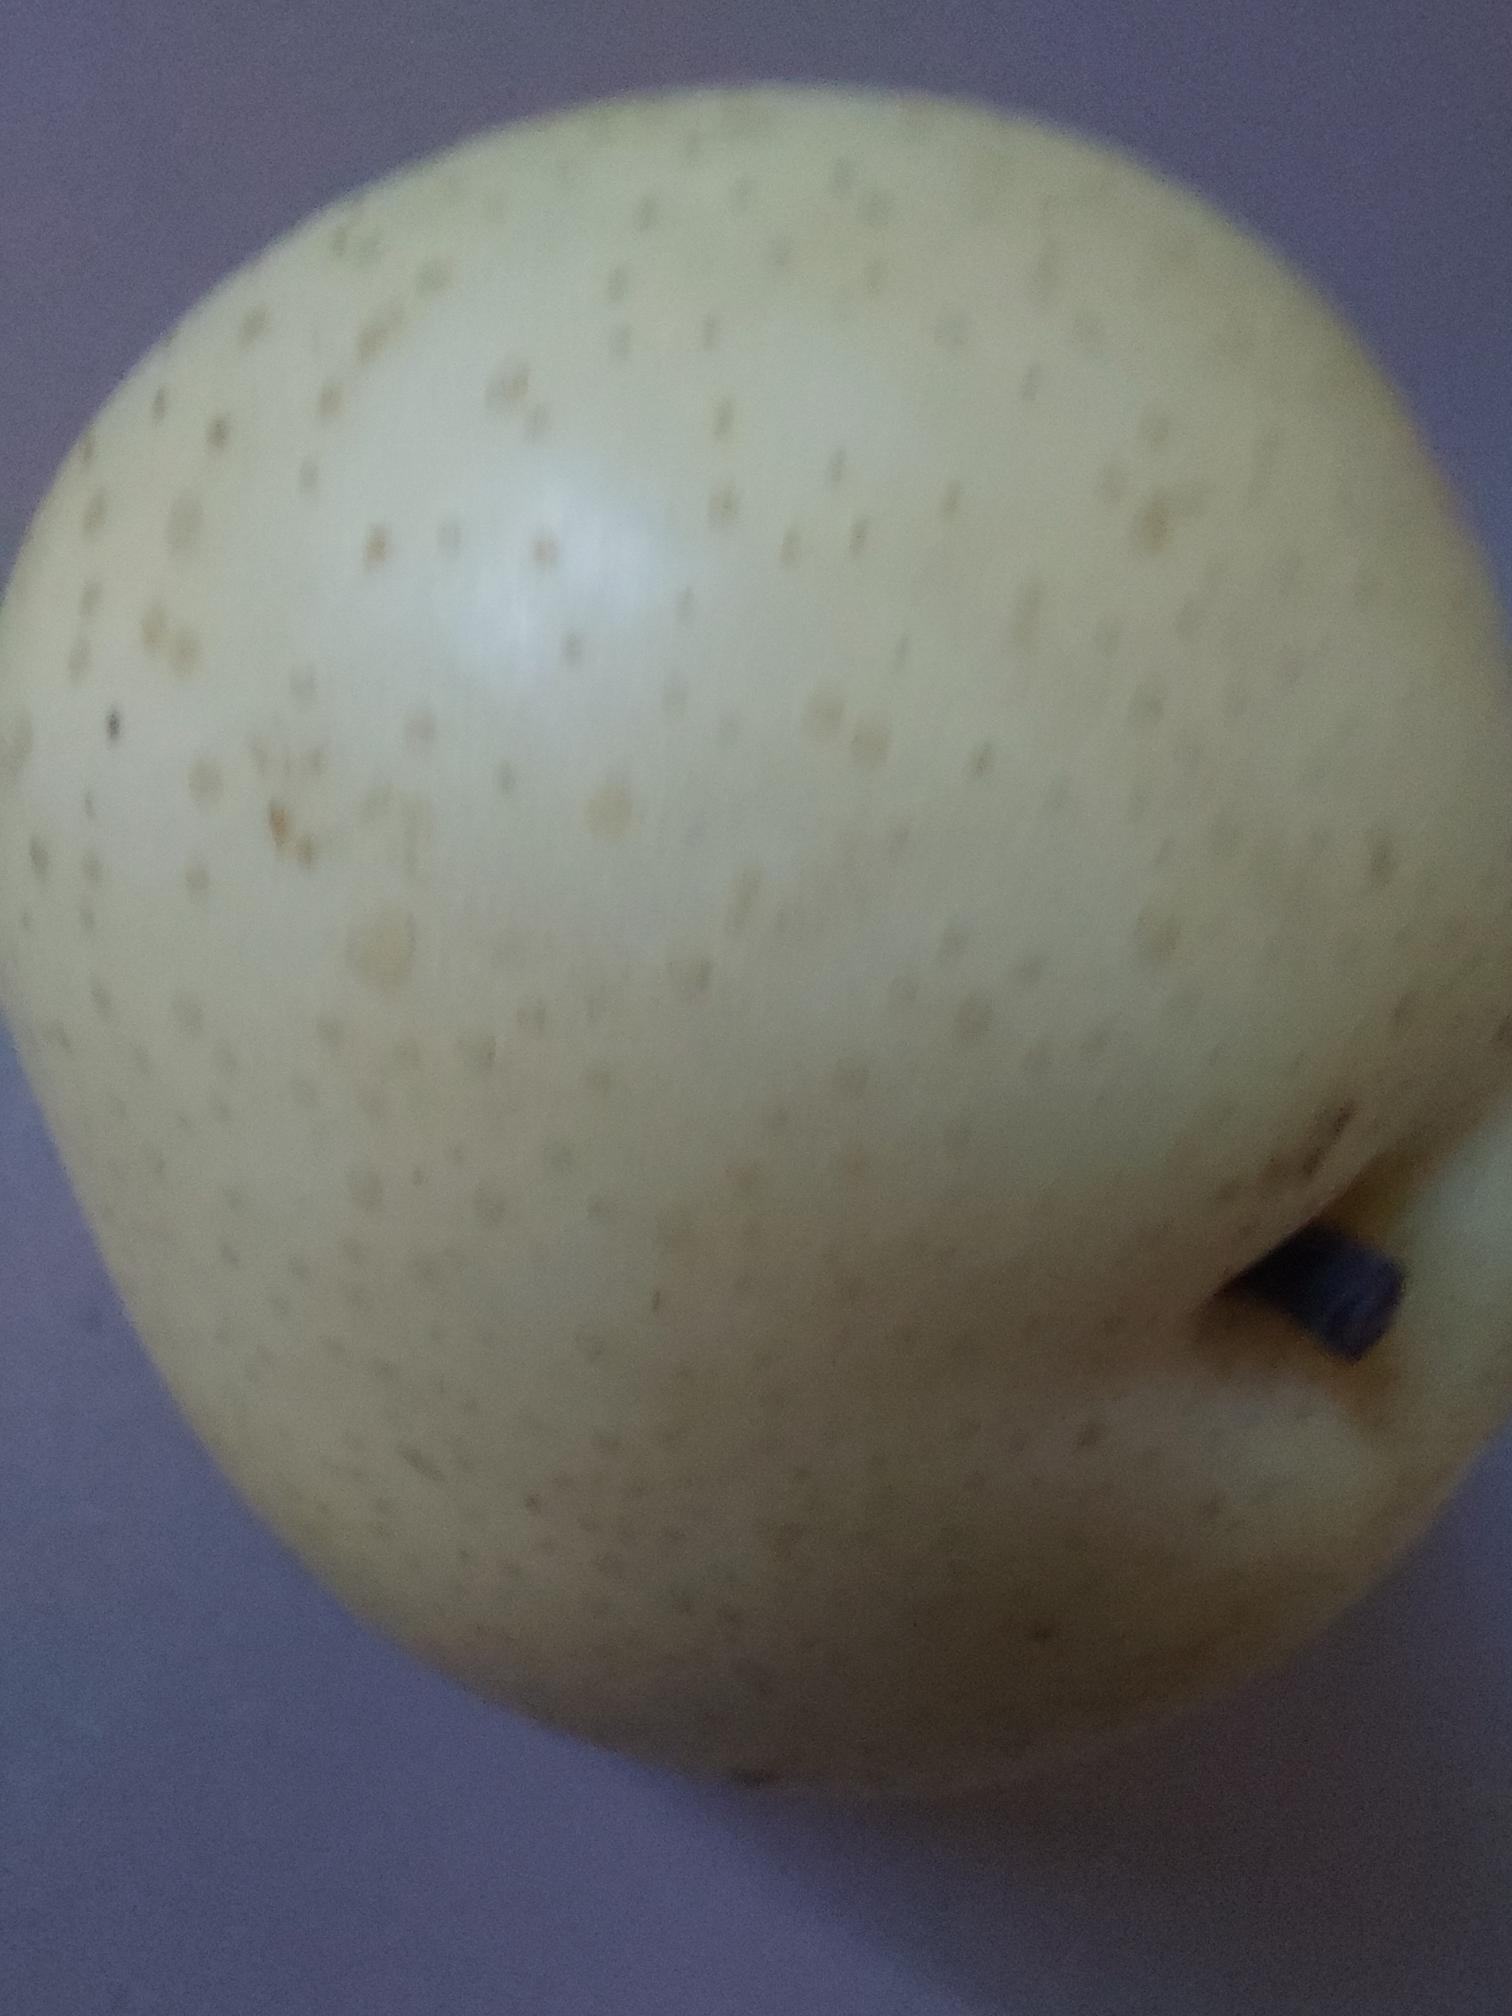Good Pear: (0, 48, 1512, 1808)
